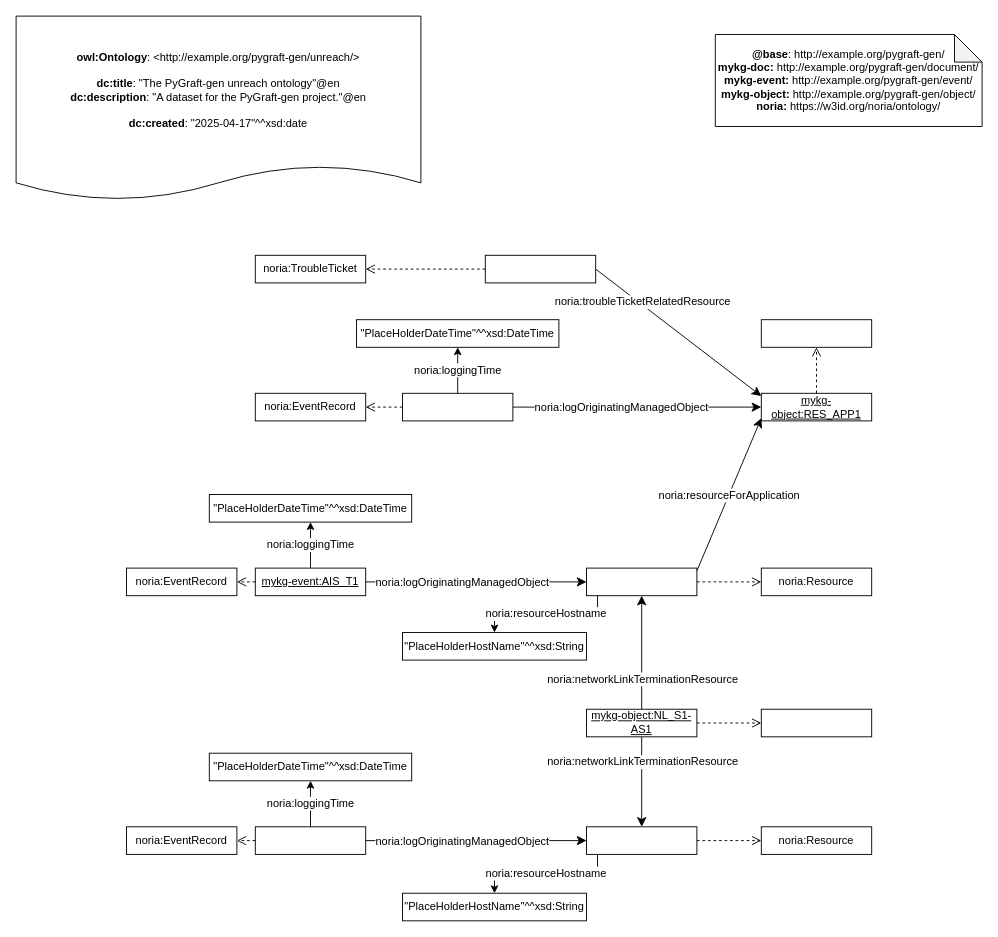
This 998x937 diagram has some shape labels left out. The centre of each missing label's shape, as x and y in pixels:
"mykg-doc:TT_APP1" belongs at [540,268].
"mykg-event:AIS_T0" belongs at [310,840].
"mykg-event:AIS_T2" belongs at [457,406].
"mykg-object:RES_AS1" belongs at [641,840].
"mykg-object:RES_S1" belongs at [641,581].
"noria:Application" belongs at [816,333].
"noria:NetworkLink" belongs at [816,722].
